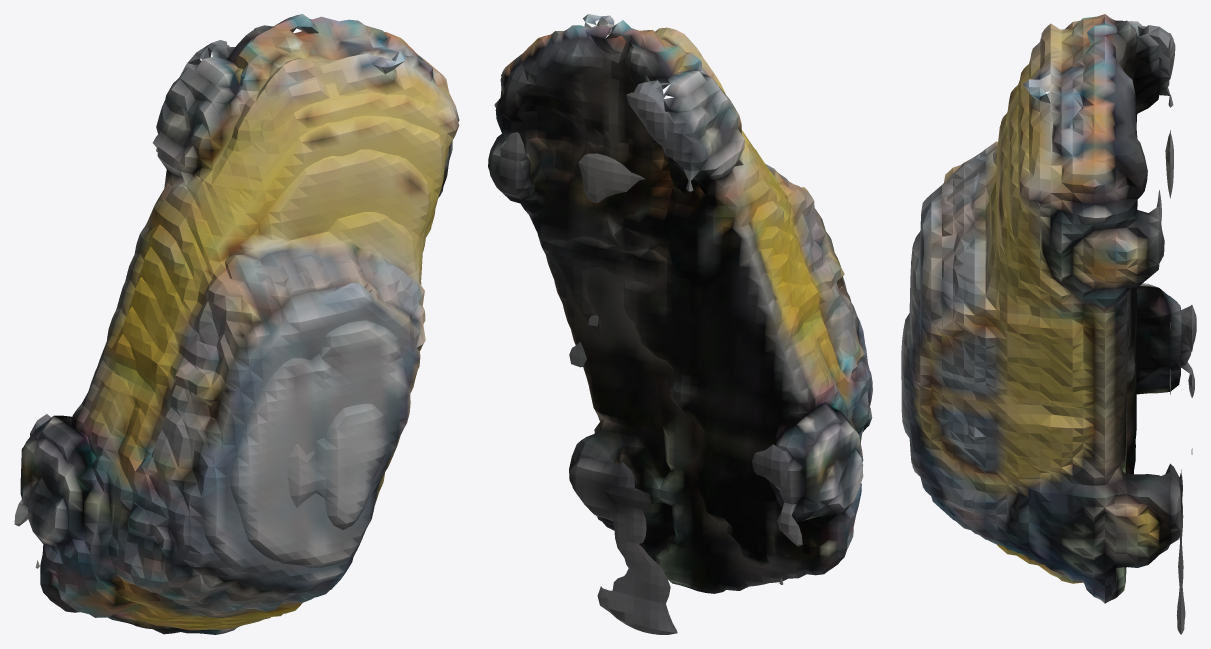
The model's file is 000001_car_vehicle_auto_10240_128.glb.
3 views of the same model, side by side, from view 1: azimuth 30°, elevation 25°; view 2: azimuth 150°, elevation 25°; view 3: azimuth 270°, elevation 25° (orthographic). The views are drawn at different scales.
Visible parts, largest first — view 1: world; view 2: world; view 3: world.
Part boxes in pixels (<box>): world: <box>14,14,459,634</box>; world: <box>488,14,872,634</box>; world: <box>901,14,1196,634</box>.
Size of the model in its own units: 0.5854 by 0.8837 by 0.3728.
